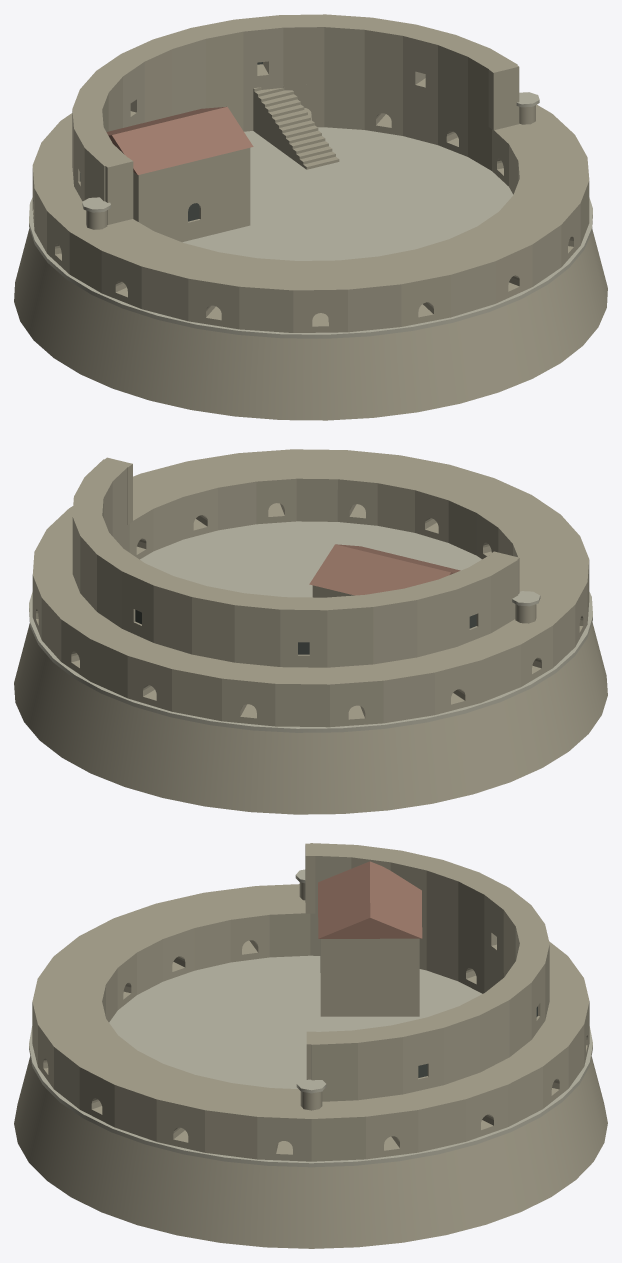
The model's file is tour-royale-toulon-far.glb.
3 views of the same model, one above another, from view 1: azimuth 30°, elevation 25°; view 2: azimuth 150°, elevation 25°; view 3: azimuth 270°, elevation 25° (orthographic).
Visible parts, largest first — view 1: tour-royale-toulon-0-stone, tour-royale-toulon-0-trim, tour-royale-toulon-0-roof; view 2: tour-royale-toulon-0-stone, tour-royale-toulon-0-trim, tour-royale-toulon-0-roof; view 3: tour-royale-toulon-0-stone, tour-royale-toulon-0-trim, tour-royale-toulon-0-roof.
Part boxes in pixels (x1,y1,x2,y2): tour-royale-toulon-0-stone: [14, 14, 607, 420]; tour-royale-toulon-0-trim: [29, 92, 592, 338]; tour-royale-toulon-0-roof: [106, 106, 253, 174]; tour-royale-toulon-0-stone: [14, 449, 607, 814]; tour-royale-toulon-0-trim: [29, 521, 592, 732]; tour-royale-toulon-0-roof: [309, 544, 460, 595]; tour-royale-toulon-0-stone: [14, 843, 607, 1248]; tour-royale-toulon-0-trim: [29, 869, 592, 1167]; tour-royale-toulon-0-roof: [318, 861, 422, 938].
Bounding box in the file's own units: 60 × 20 × 60.
